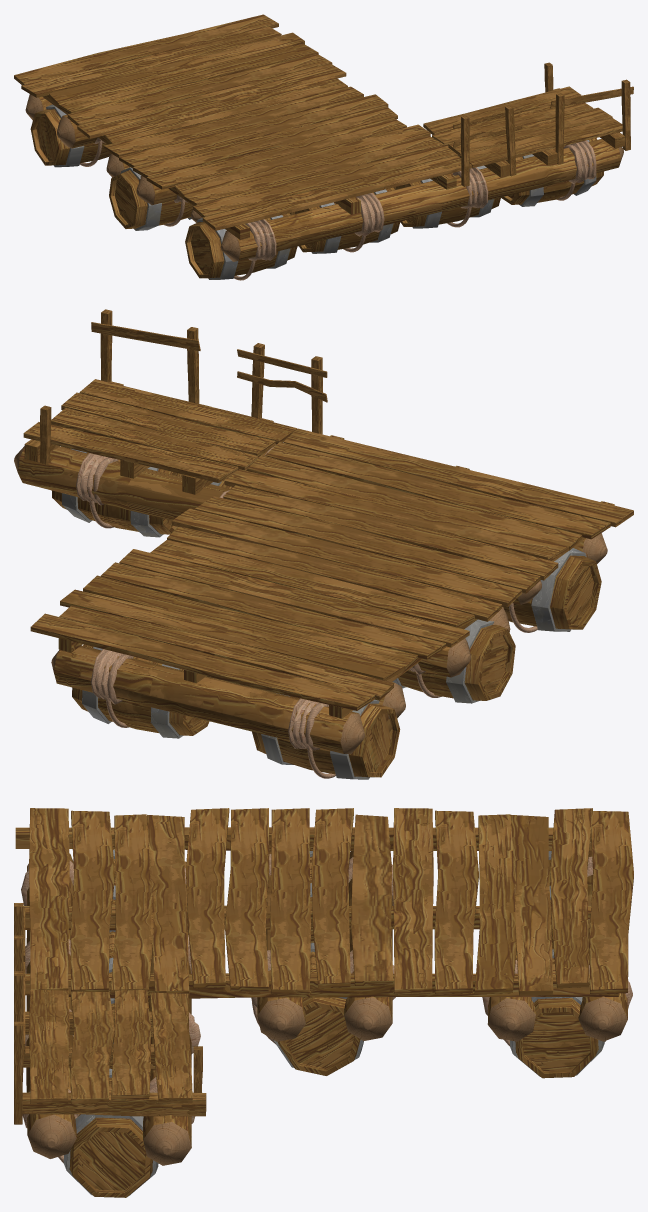
Rendered from RaftModuleTemplate.fbx.
3 renders of one model, top to bottom at view 1: azimuth 30°, elevation 25°; view 2: azimuth 150°, elevation 25°; view 3: azimuth 270°, elevation 25°, orthographic. The views are drawn at different scales.
Visible parts, largest first — view 1: Cube.002; view 2: Cube.002; view 3: Cube.002.
Part boxes in pixels (x1,y1,x2,y2): Cube.002: (14, 14, 633, 280); Cube.002: (14, 309, 633, 779); Cube.002: (14, 808, 633, 1197).
Size of the model in its own units: 6.06 by 1.84 by 5.29.
